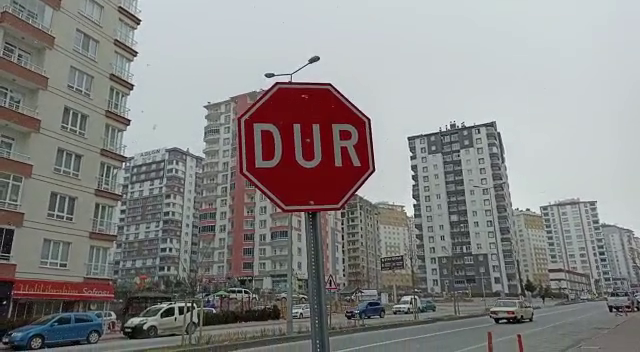stop: (235, 78, 380, 217)
